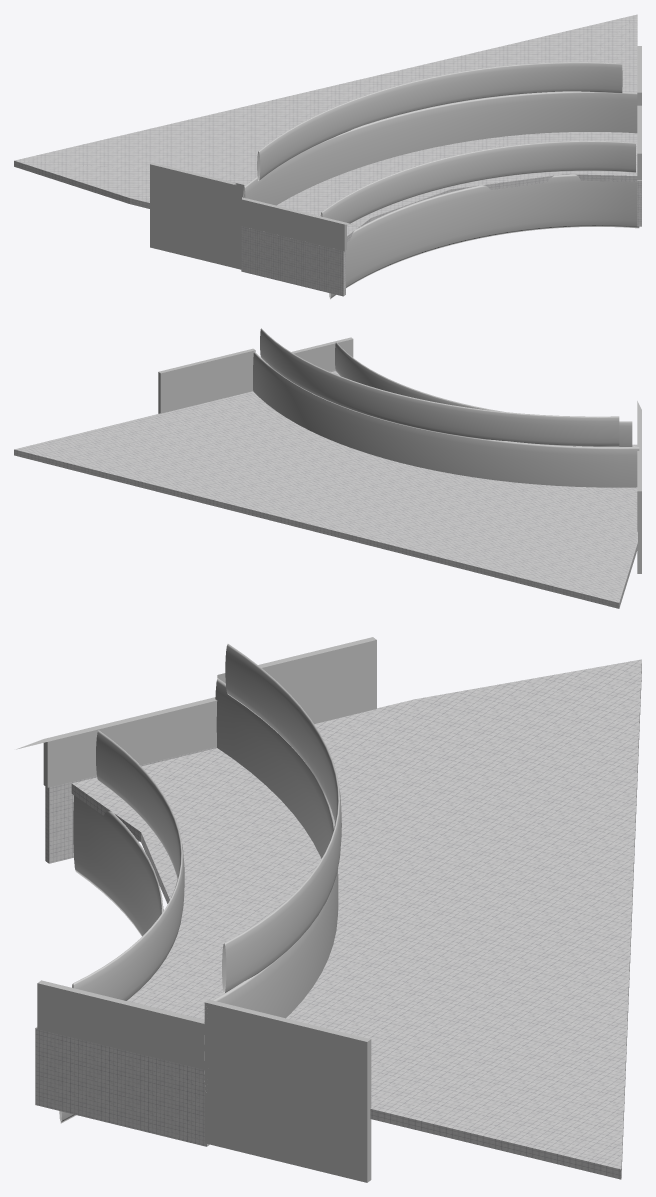
The model's file is Conservatory2ndFloor.fbx.
3 views of the same model, one above another, from view 1: azimuth 30°, elevation 25°; view 2: azimuth 150°, elevation 25°; view 3: azimuth 270°, elevation 25° (orthographic). The views are drawn at different scales.
Visible parts, largest first — view 1: Level2Floor, Level2TWall, Level3TWall, FirstFloorFence, SecondFloorFence, Cube__2__3, RWall, Cube__2__2; view 2: Level2Floor, Level2TWall, FirstFloorFence, Cube__2__1, SecondFloorFence, Cube__2_, Cube__2__3; view 3: Level2Floor, Cube__2__1, Level2TWall, LWall, FirstFloorFence, SecondFloorFence, Cube__2_, Cube__2__2, Level3TWall, Cube__2__3, RWall.
Part boxes in pixels (x1,y1,x2,y2): Level2Floor: [14, 14, 637, 241]; Level2TWall: [243, 91, 641, 205]; Level3TWall: [329, 174, 639, 299]; FirstFloorFence: [257, 62, 622, 180]; SecondFloorFence: [320, 140, 635, 225]; Cube__2__3: [150, 162, 244, 269]; RWall: [241, 226, 345, 296]; Cube__2__2: [242, 197, 364, 251]; Level2Floor: [14, 371, 637, 608]; Level2TWall: [253, 351, 639, 487]; FirstFloorFence: [260, 328, 619, 446]; Cube__2__1: [158, 348, 255, 413]; SecondFloorFence: [335, 342, 632, 446]; Cube__2_: [291, 337, 353, 371]; Cube__2__3: [637, 451, 641, 573]; Level2Floor: [71, 659, 641, 1179]; Cube__2__1: [204, 999, 371, 1182]; Level2TWall: [204, 678, 338, 1092]; LWall: [35, 1027, 209, 1146]; FirstFloorFence: [222, 644, 341, 993]; SecondFloorFence: [72, 730, 184, 1000]; Cube__2_: [37, 980, 206, 1070]; Cube__2__2: [16, 697, 217, 787]; Level3TWall: [59, 782, 163, 1123]; Cube__2__3: [217, 637, 376, 724]; RWall: [45, 746, 216, 863].
Size of the model in its own units: 10722 by 2024 by 5578.
